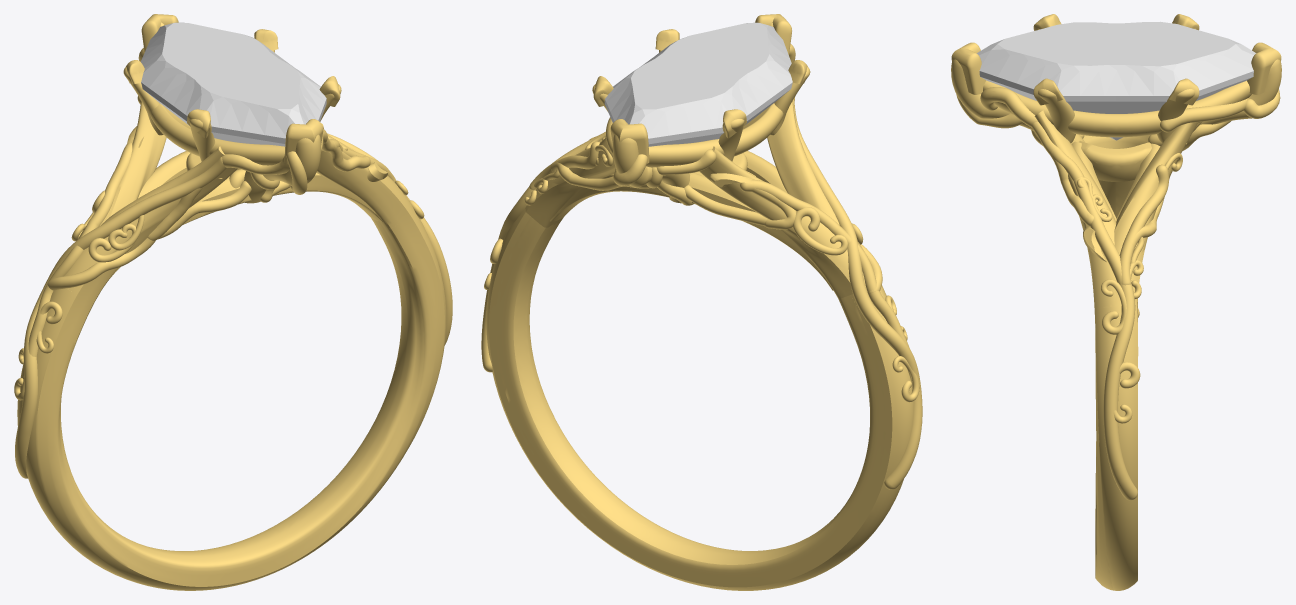
File: AylaV6newsplit_blender.glb
3 views of the same model, side by side, from view 1: azimuth 30°, elevation 25°; view 2: azimuth 150°, elevation 25°; view 3: azimuth 270°, elevation 25° (orthographic).
Parts seen in each view (by area): view 1: V6 new split YG for 3d model, V5 Ayla dia center for 3d model; view 2: V6 new split YG for 3d model, V5 Ayla dia center for 3d model; view 3: V6 new split YG for 3d model, V5 Ayla dia center for 3d model.
Boxes of the visible parts, <box> form: V6 new split YG for 3d model: <box>14,14,452,590</box>; V5 Ayla dia center for 3d model: <box>141,22,326,146</box>; V6 new split YG for 3d model: <box>481,14,922,590</box>; V5 Ayla dia center for 3d model: <box>604,22,792,146</box>; V6 new split YG for 3d model: <box>951,14,1281,590</box>; V5 Ayla dia center for 3d model: <box>977,21,1256,140</box>.
Size of the model in its own units: 20.28 by 23.05 by 13.19.
